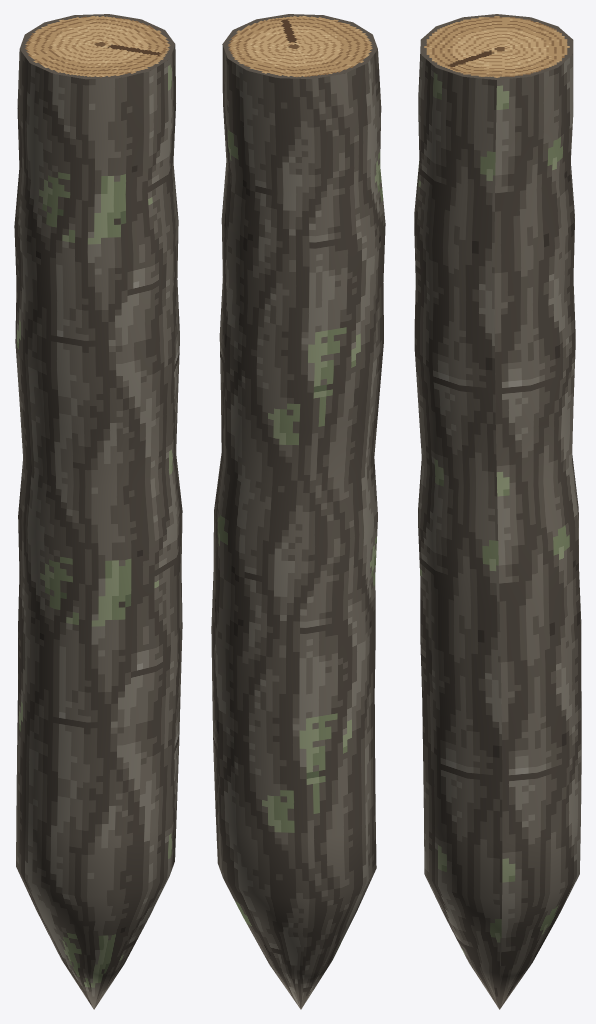
The model's file is environment_elm_log_v34.fbx.
The picture shows the model from 3 angles, left to right: view 1: azimuth 30°, elevation 25°; view 2: azimuth 150°, elevation 25°; view 3: azimuth 270°, elevation 25°; orthographic projection.
Parts seen in each view (by area): view 1: environment_elm_log_v34; view 2: environment_elm_log_v34; view 3: environment_elm_log_v34.
Part boxes in pixels (left/top/right/bottom): environment_elm_log_v34: left=14, top=14, right=182, bottom=1009; environment_elm_log_v34: left=211, top=14, right=385, bottom=1009; environment_elm_log_v34: left=414, top=14, right=581, bottom=1009.
Size of the model in its own units: 130 by 800 by 126.
Materials: 2 (2 with a texture image).
